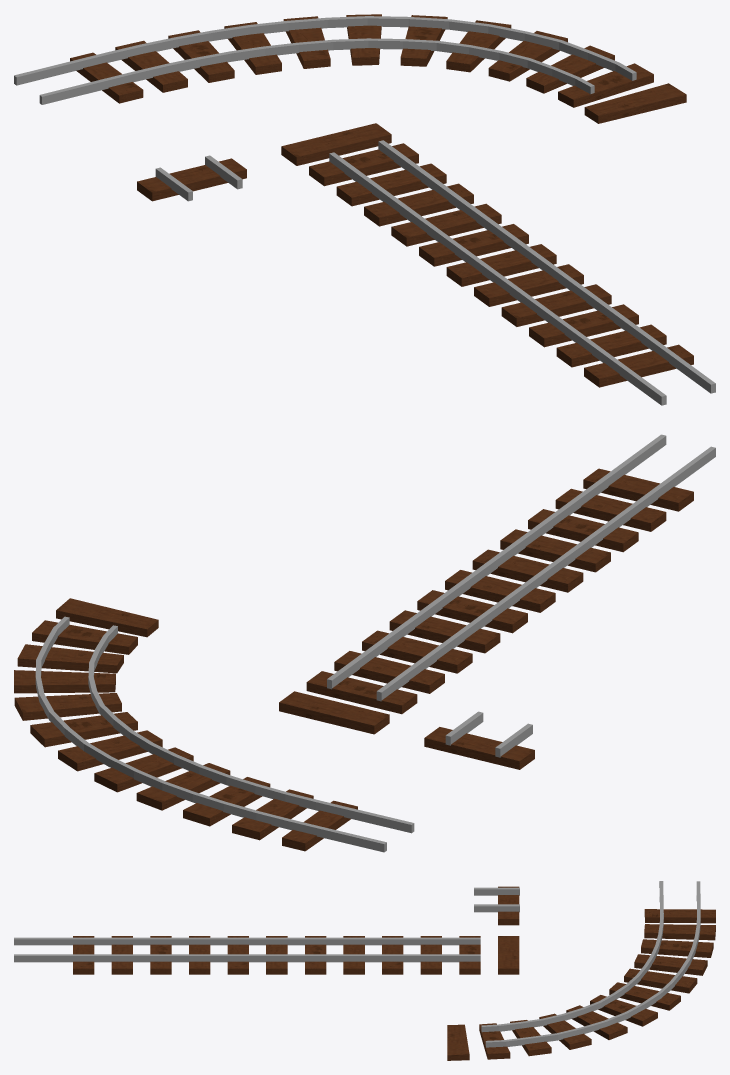
Rendered from Tory.fbx.
3 renders of one model, top to bottom at view 1: azimuth 30°, elevation 25°; view 2: azimuth 150°, elevation 25°; view 3: azimuth 270°, elevation 25°, orthographic. The views are drawn at different scales.
Parts seen in each view (by area): view 1: Cube.028, Cube.030, Cube.002, Cube.004; view 2: Cube.028, Cube.030, Cube.002, Cube.004; view 3: Cube.028, Cube.030, Cube.004, Cube.002.
Part boxes in pixels (<box>): Cube.028: <box>281,123,715,405</box>; Cube.030: <box>14,14,686,123</box>; Cube.002: <box>137,158,246,201</box>; Cube.004: <box>155,155,242,201</box>; Cube.028: <box>279,434,715,734</box>; Cube.030: <box>14,598,414,852</box>; Cube.002: <box>424,727,534,769</box>; Cube.004: <box>445,711,532,757</box>; Cube.028: <box>14,936,519,974</box>; Cube.030: <box>447,881,715,1060</box>; Cube.004: <box>474,887,519,912</box>; Cube.002: <box>498,886,519,925</box>.
Size of the model in its own units: 6986 by 256 by 12138.
